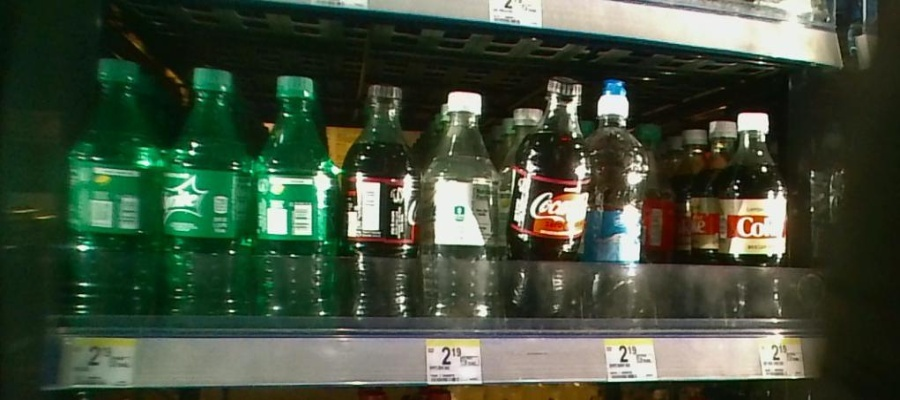bottle: (61, 47, 163, 316), (166, 48, 253, 315), (343, 74, 422, 322), (424, 75, 502, 326), (508, 75, 588, 319), (257, 78, 336, 323), (592, 74, 653, 322), (719, 110, 787, 317)
